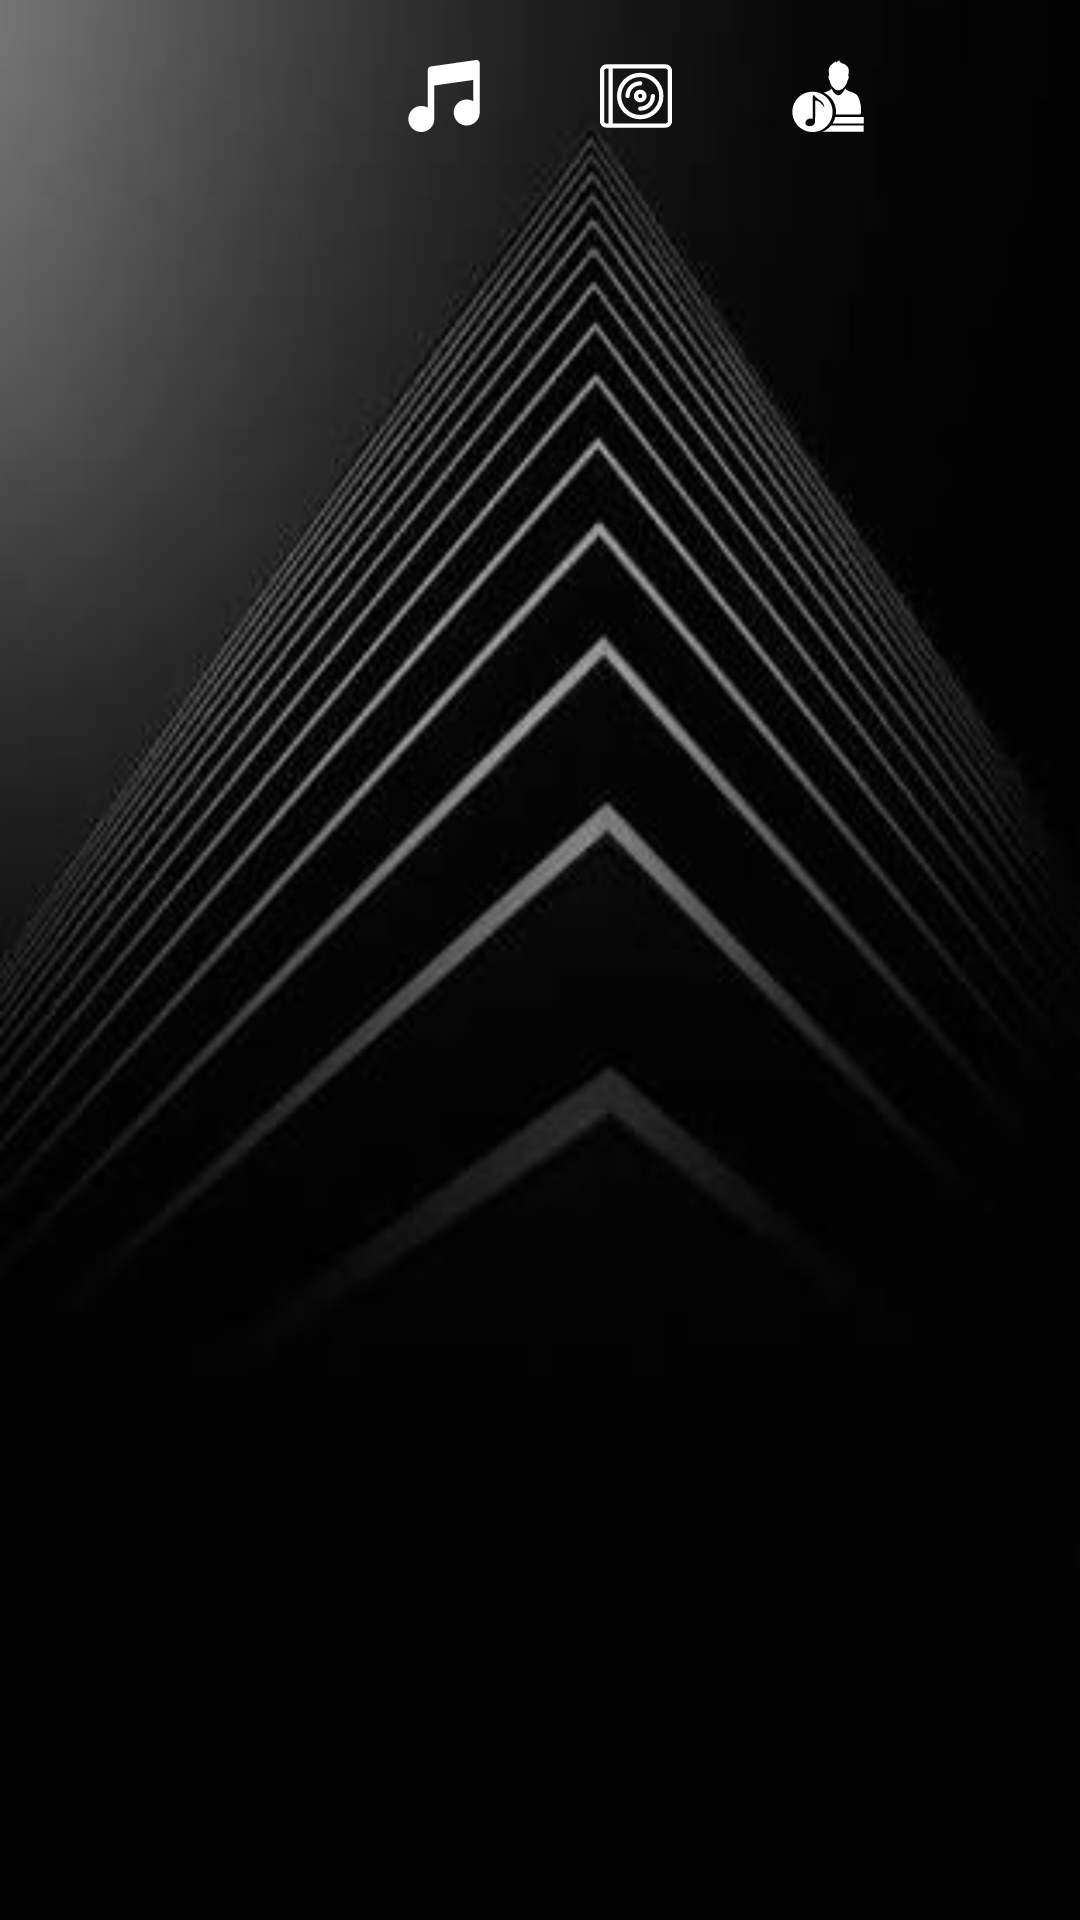

Point at icon controls on the screen. Image size 1080px x 1920px, points as point (x, y).
music player: point (444, 96)
